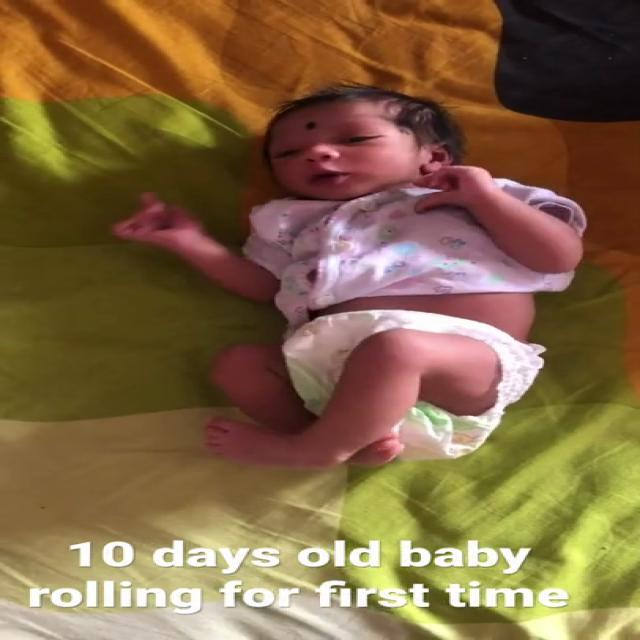baby: (109, 82, 596, 477)
